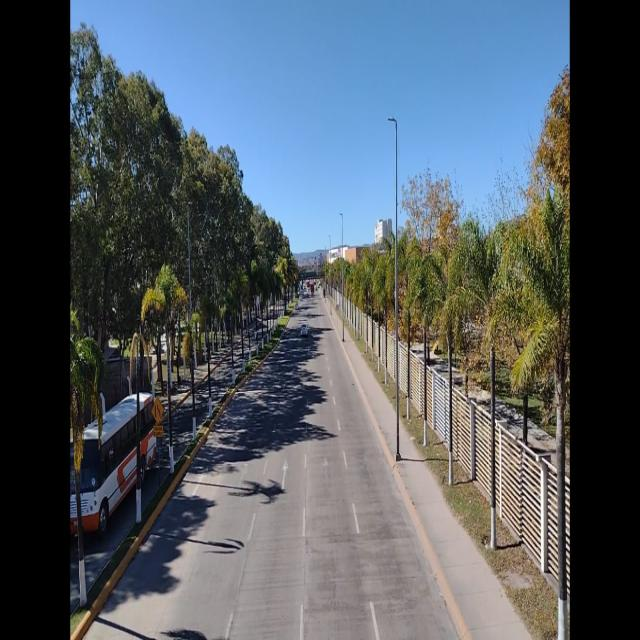Auto: (301, 324, 308, 335)
Autobus: (69, 387, 156, 543)
